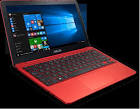laptop: (1, 5, 133, 97)
